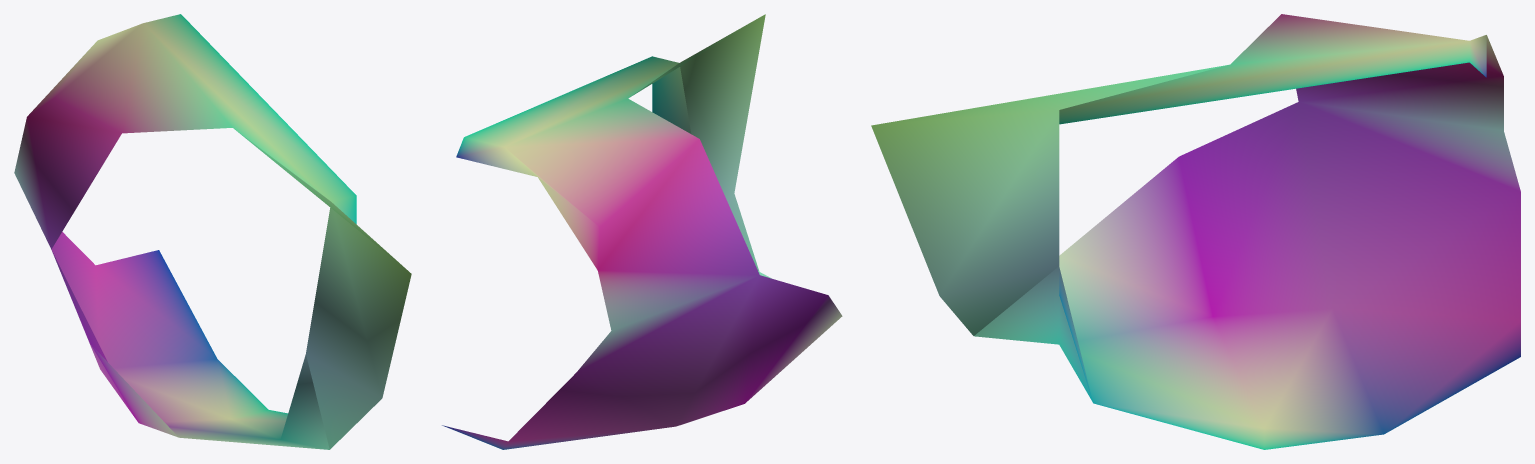
3 views of the same model, side by side, from view 1: azimuth 30°, elevation 25°; view 2: azimuth 150°, elevation 25°; view 3: azimuth 270°, elevation 25° (orthographic). The views are drawn at different scales.
Parts seen in each view (by area): view 1: part; view 2: part; view 3: part.
Boxes of the visible parts, x1=… form: part: x1=14, y1=14, x2=411, y2=449; part: x1=442, y1=14, x2=842, y2=449; part: x1=871, y1=14, x2=1520, y2=449.
Bounding box in the file's own units: 17 × 25 × 38.
